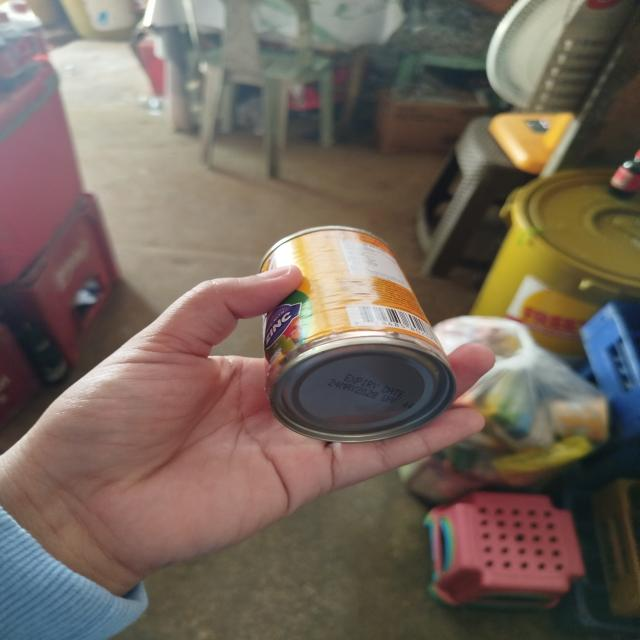metal: (248, 213, 470, 445)
plastic: (608, 147, 640, 204)
residual: (431, 300, 622, 500)
